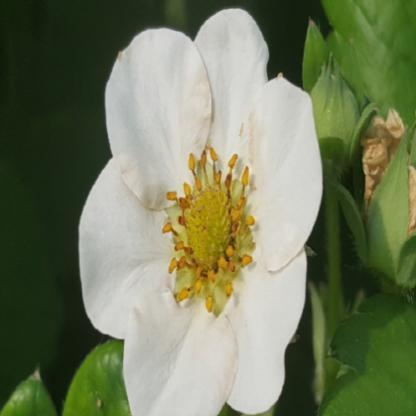Strawberry_Blossom_Blight: (160, 145, 259, 313)
